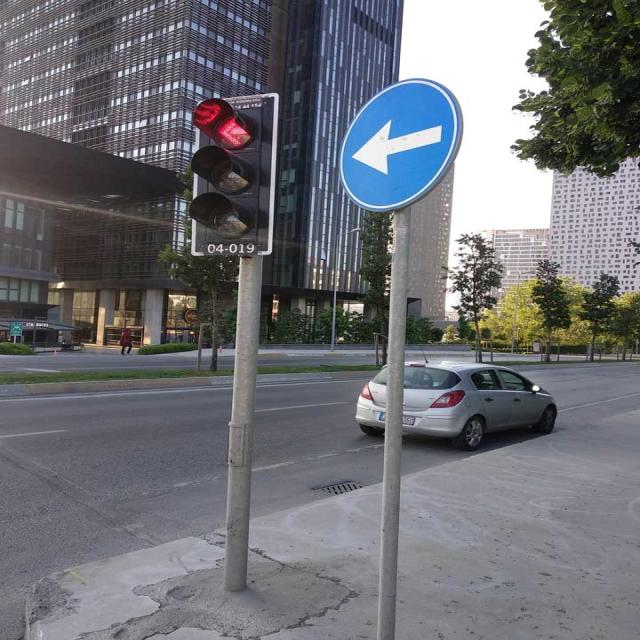kirmizi: (191, 93, 278, 256)
sol: (339, 78, 462, 211)
